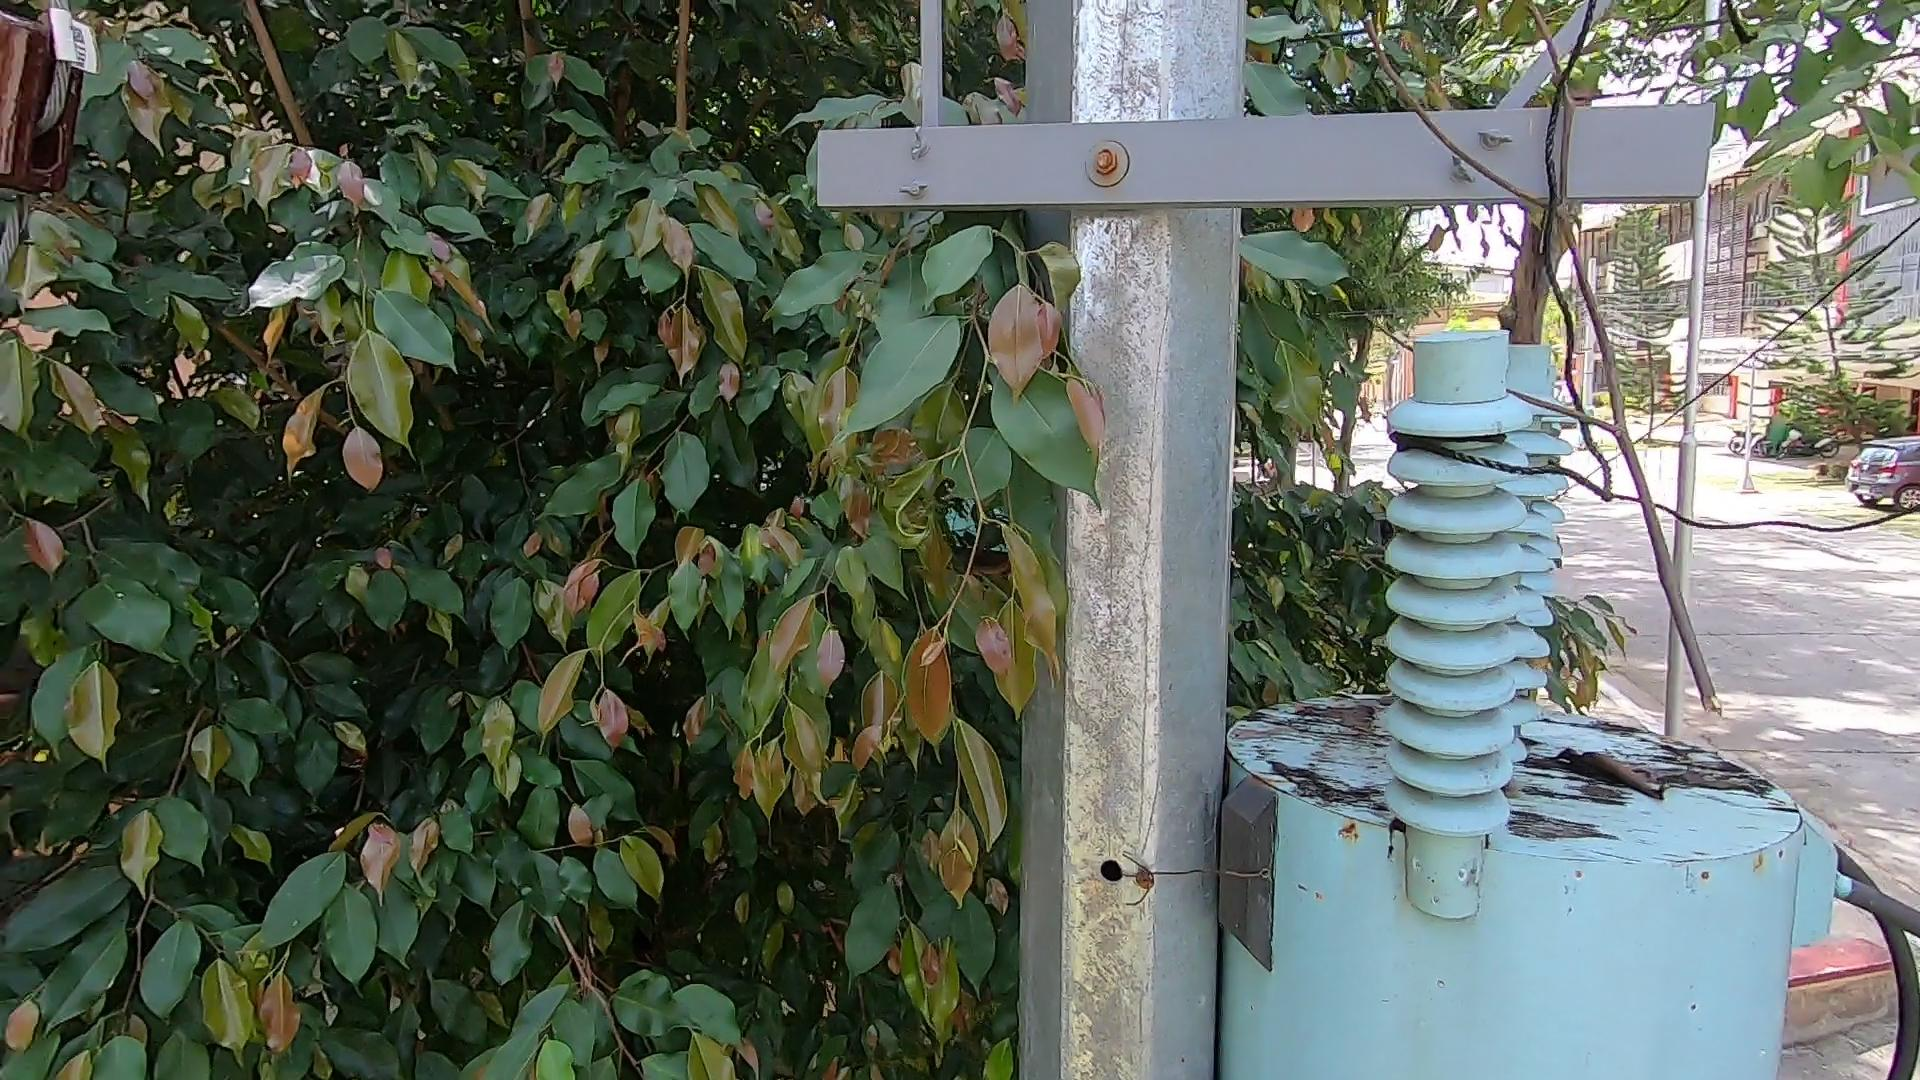leaf: (1516, 742, 1673, 814)
tree branch: (1320, 3, 1754, 719)
